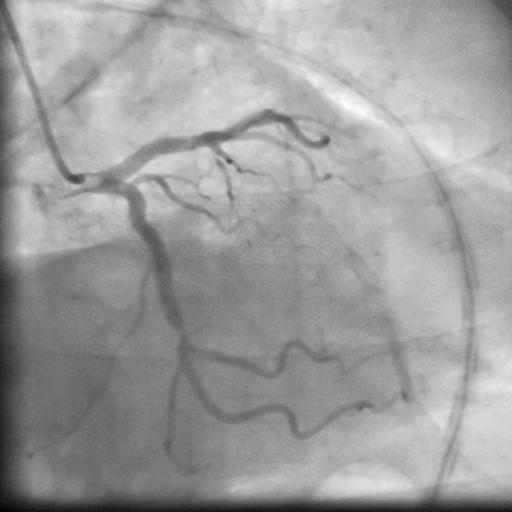Stenosis: (168, 323, 189, 345)
